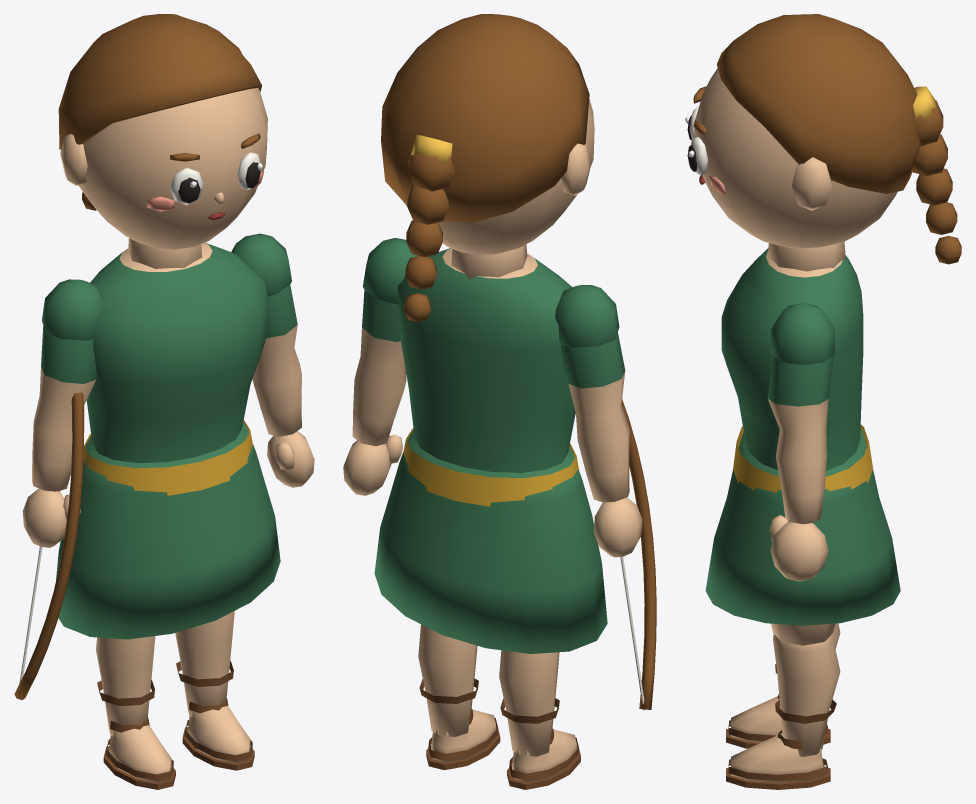
Rendered from bogenschuetzin.glb.
The picture shows the model from 3 angles, left to right: view 1: azimuth 30°, elevation 25°; view 2: azimuth 150°, elevation 25°; view 3: azimuth 270°, elevation 25°; orthographic projection. The views are drawn at different scales.
Parts seen in each view (by area): view 1: rumpf, huefte, kopf, haare, armL, armR, knieL, knieR, itemL, augeL, augeR; view 2: haare, rumpf, huefte, armL, armR, knieL, knieR, kopf, itemL; view 3: haare, huefte, rumpf, kopf, armR, knieR, knieL, beinR, augeR.
Part boxes in pixels (x1,y1,x2,y2): rumpf: (83,242,269,495); huefte: (56,422,280,639); kopf: (60,88,267,268); haare: (58,14,261,210); armL: (22,279,103,547); armR: (231,233,314,487); knieL: (96,636,175,789); knieR: (175,611,254,770); itemL: (14,392,83,700); augeL: (170,167,203,204); augeR: (237,152,262,189); haare: (381,14,589,321); rumpf: (397,248,578,506); huefte: (374,430,607,653); armL: (555,285,642,557); armR: (343,238,418,495); knieL: (499,650,580,789); knieR: (418,624,500,770); kopf: (404,99,594,279); itemL: (620,399,656,710); haare: (716,14,961,264); huefte: (705,427,900,625); rumpf: (721,248,873,492); kopf: (694,68,897,271); armR: (767,302,834,581); knieR: (726,634,840,789); knieL: (726,623,840,748); beinR: (771,623,835,645); augeR: (687,137,708,175).
Size of the model in its own units: 0.9719 by 2.29 by 0.7797.
